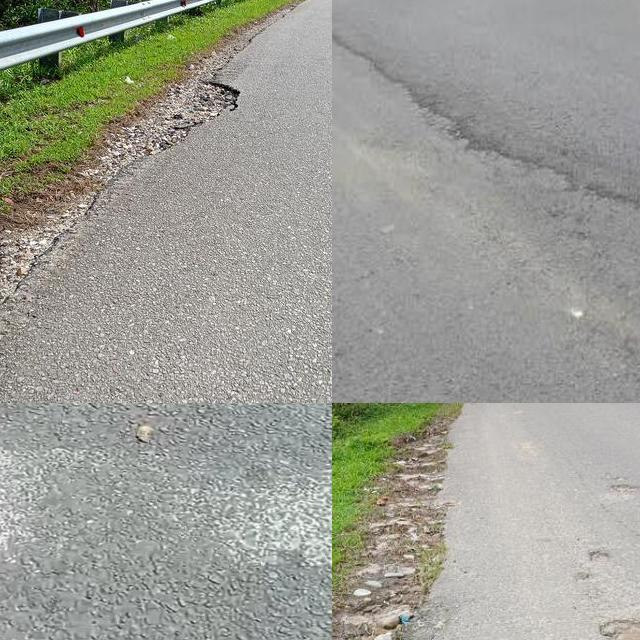Lubang: (591, 616, 640, 640)
Pinggir: (0, 57, 287, 397), (332, 417, 469, 640)
Sambungan: (332, 23, 640, 403)
